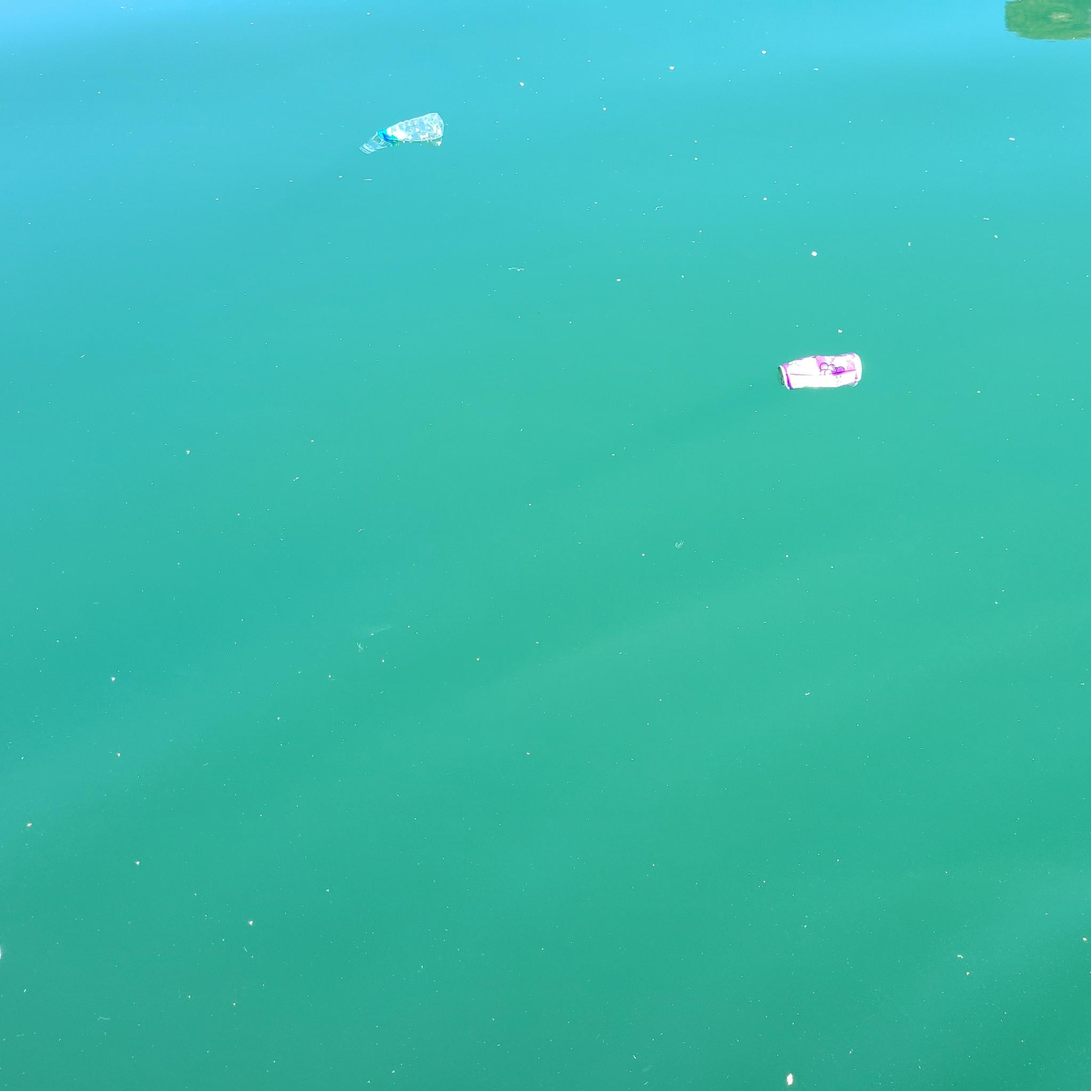sampah_terapung: (360, 112, 445, 155), (778, 353, 863, 392)
